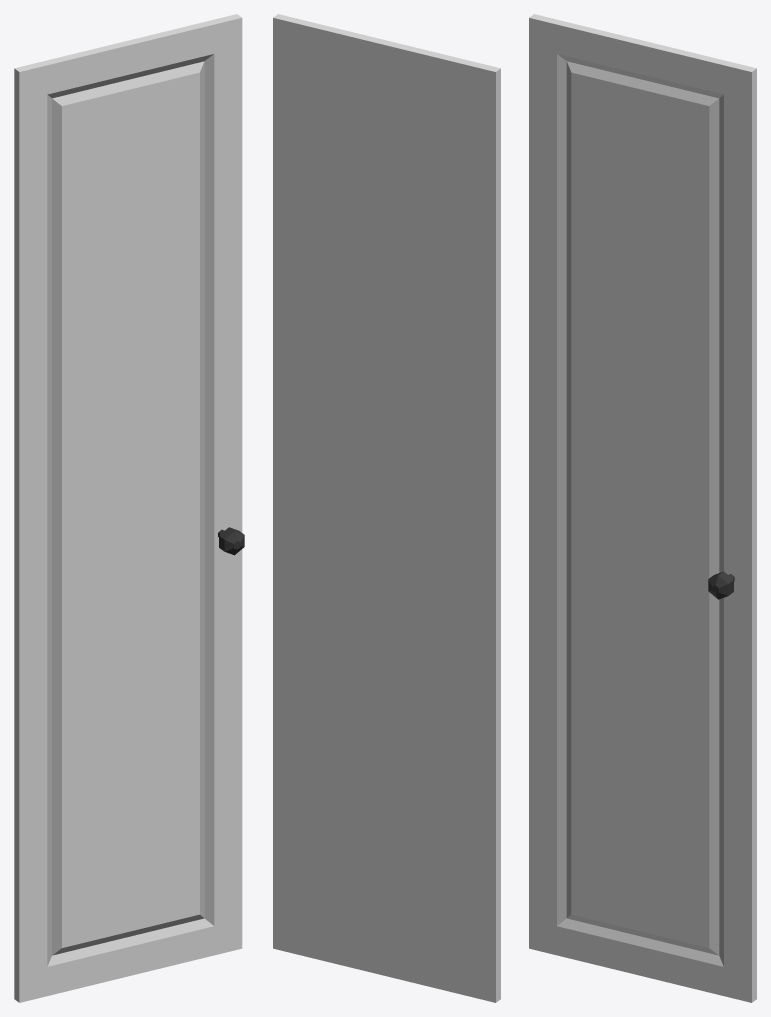
The model's file is Wardrobe7_C1_07.fbx.
3 renders of one model, left to right at view 1: azimuth 30°, elevation 25°; view 2: azimuth 150°, elevation 25°; view 3: azimuth 330°, elevation 25°, orthographic.
Visible parts, largest first — view 1: Wardrobe7_C1_07; view 2: Wardrobe7_C1_07; view 3: Wardrobe7_C1_07.
Part boxes in pixels (box(x1,y1,x2,y2)): Wardrobe7_C1_07: box(14, 14, 244, 1002); Wardrobe7_C1_07: box(273, 14, 500, 1002); Wardrobe7_C1_07: box(529, 14, 756, 1002).
Bounding box in the file's own units: 50 × 200 × 8.1.
